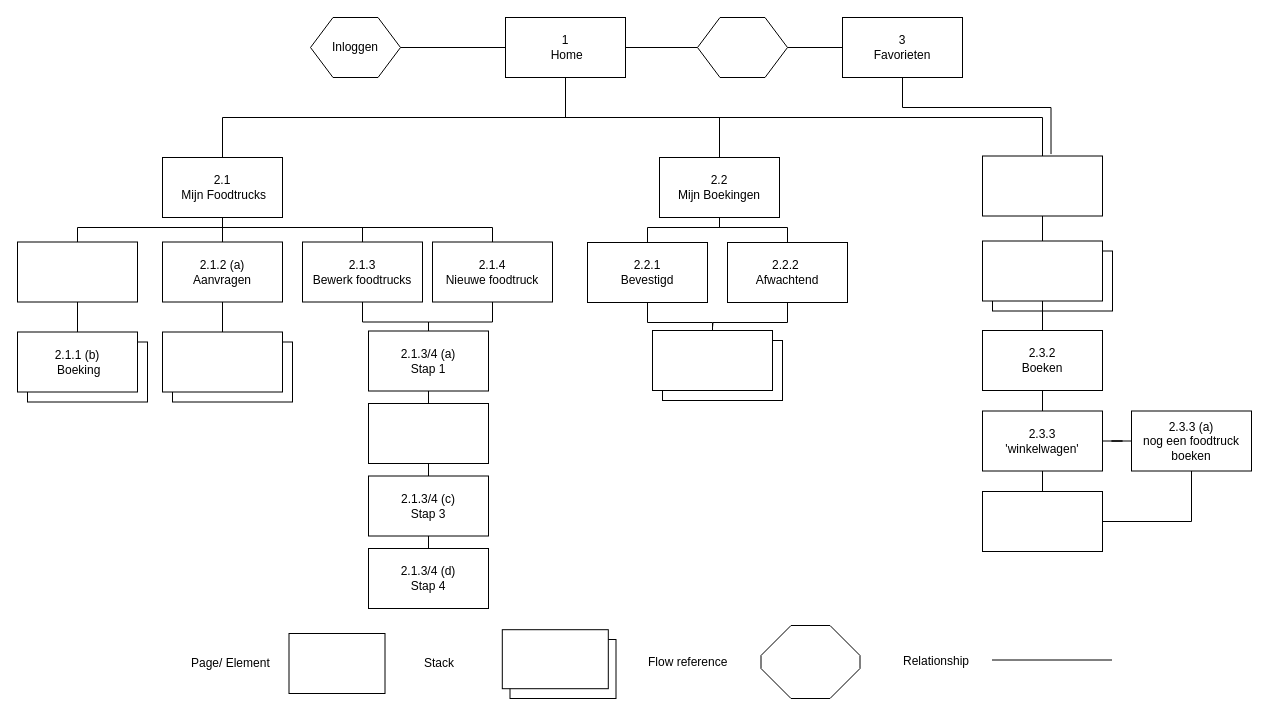
Image size: 1269x716. Some labels were removed from this diagram. Each missing label, with the centre of its shape:
"2.1.1 (a) Boekingen" goes at (77,271).
"2.1.2 (b) Aanvraag" goes at (222,361).
"2.1.3/4 (b) Stap 2" goes at (428,433).
"2.2.1/2 (a) Boeking" goes at (712,360).
"2.3 Foodtrucks" goes at (1042,185).
"2.3.1 (a) Foodtruck" goes at (1042,270).
"2.3.4 Boeking aanvraag compleet" goes at (1042,521).
"Hamburger menu" goes at (742,47).
